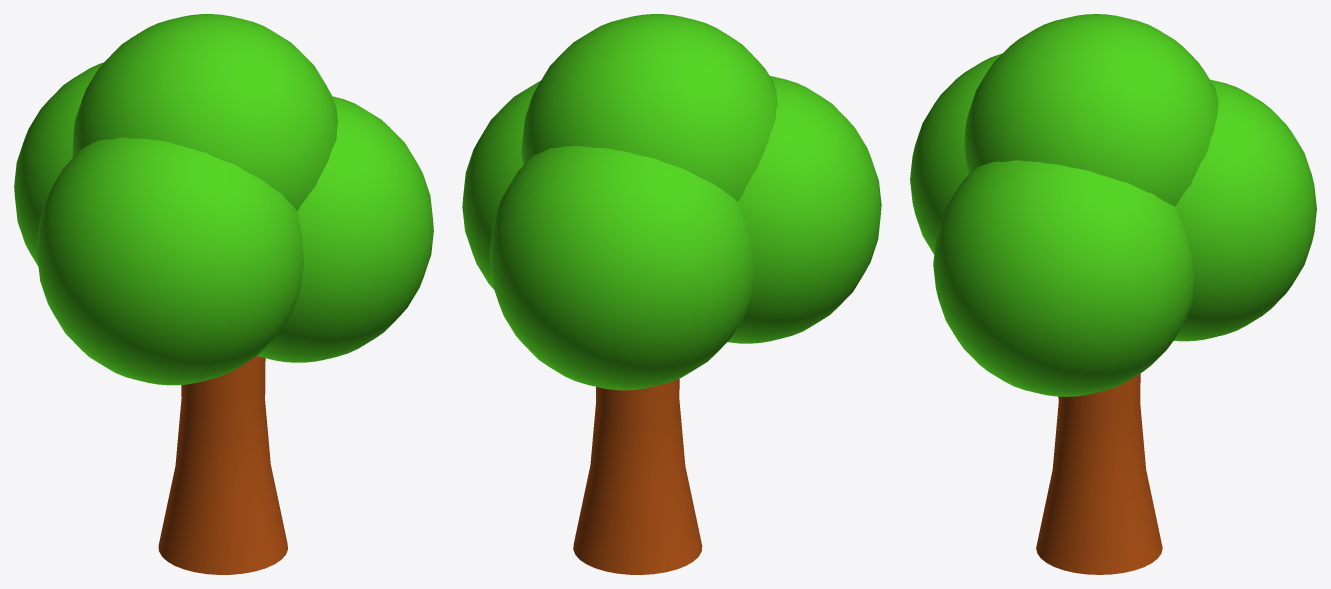
The model's file is puu1 (2).fbx.
3 renders of one model, left to right at view 1: azimuth 30°, elevation 25°; view 2: azimuth 150°, elevation 25°; view 3: azimuth 270°, elevation 25°, orthographic. The views are drawn at different scales.
Visible parts, largest first — view 1: Sphere.001, Sphere.002, Sphere.003, Cylinder, Sphere; view 2: Sphere, Sphere.002, Sphere.001, Cylinder, Sphere.003; view 3: Sphere.003, Sphere.002, Sphere, Cylinder, Sphere.001.
Part boxes in pixels (x1,y1,x2,y2): Sphere.001: (36, 137, 303, 385); Sphere.002: (72, 14, 338, 211); Sphere.003: (257, 96, 433, 362); Cylinder: (158, 356, 287, 574); Sphere: (14, 62, 103, 266); Sphere: (489, 146, 753, 390); Sphere.002: (521, 14, 777, 201); Sphere.001: (728, 76, 881, 343); Cylinder: (573, 378, 702, 574); Sphere.003: (462, 80, 540, 289); Sphere.003: (933, 160, 1194, 396); Sphere.002: (964, 14, 1218, 206); Sphere: (1173, 79, 1316, 341); Cylinder: (1036, 373, 1162, 574); Sphere.001: (910, 53, 1002, 254).
Bounding box in the file's own units: 171 × 230 × 165.
